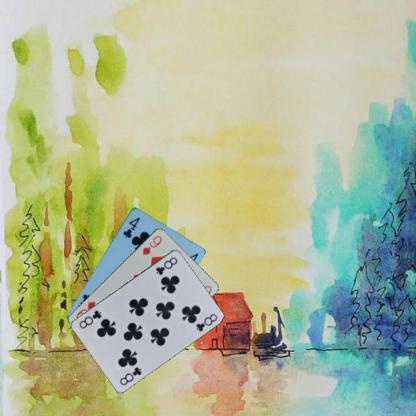4c: (120, 214, 141, 239)
8c: (117, 364, 143, 387), (153, 254, 179, 276)
9d: (139, 233, 163, 256)
